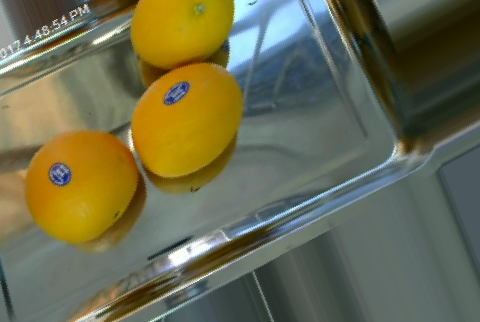Orange: (130, 61, 244, 177), (22, 128, 139, 239), (130, 0, 237, 66)
